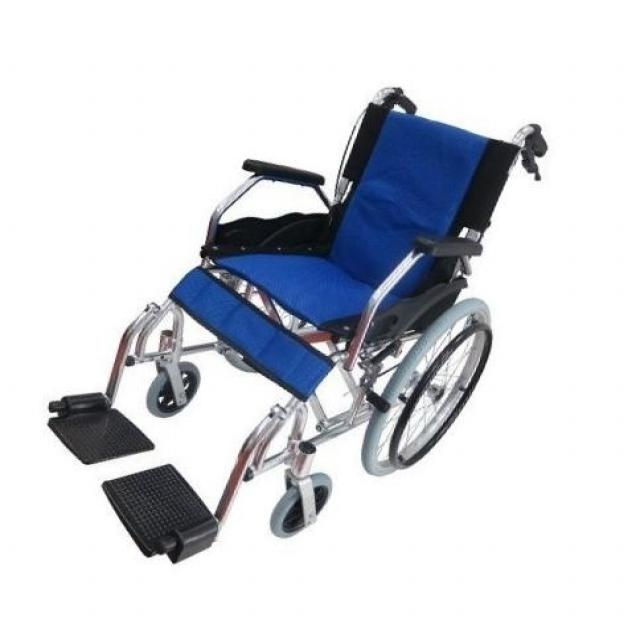wheelchair: (29, 81, 580, 576)
